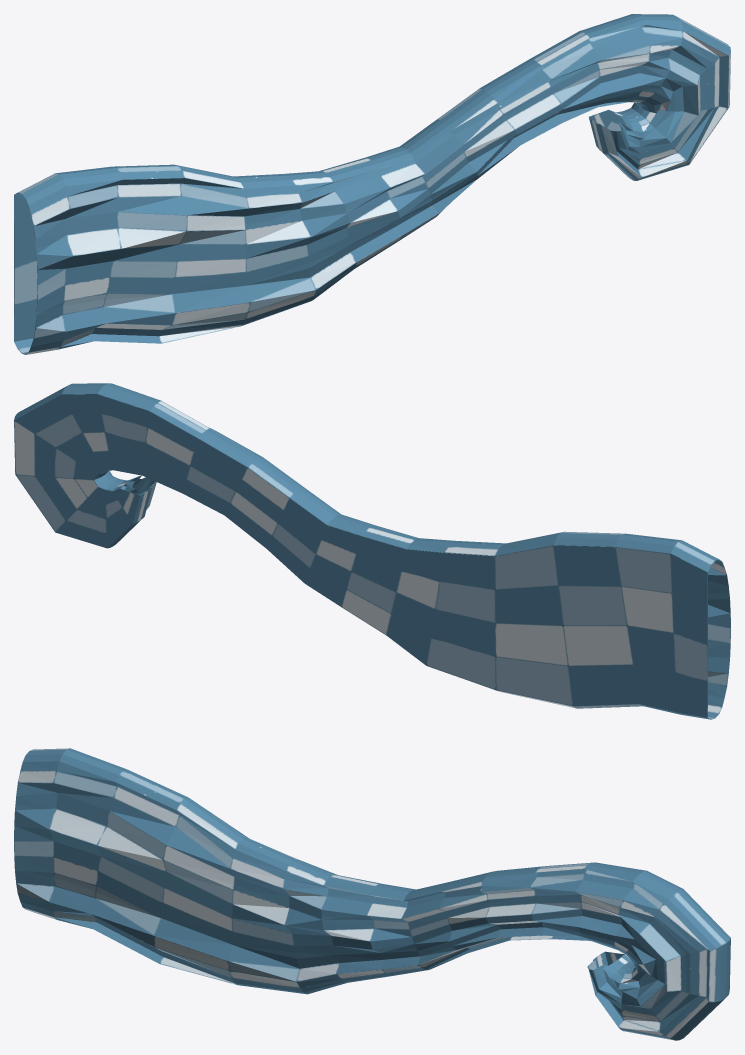
Rendered from galaxy1.obj.
3 views of the same model, one above another, from view 1: azimuth 30°, elevation 25°; view 2: azimuth 150°, elevation 25°; view 3: azimuth 330°, elevation 25° (orthographic).
Parts seen in each view (by area): view 1: 円; view 2: 円; view 3: 円.
Part boxes in pixels (x1,y1,x2,y2): 円: [14, 14, 730, 354]; 円: [14, 383, 730, 719]; 円: [14, 748, 730, 1040].
Size of the model in its own units: 26.56 by 7.55 by 1.54.
1 material, 1 textured.
